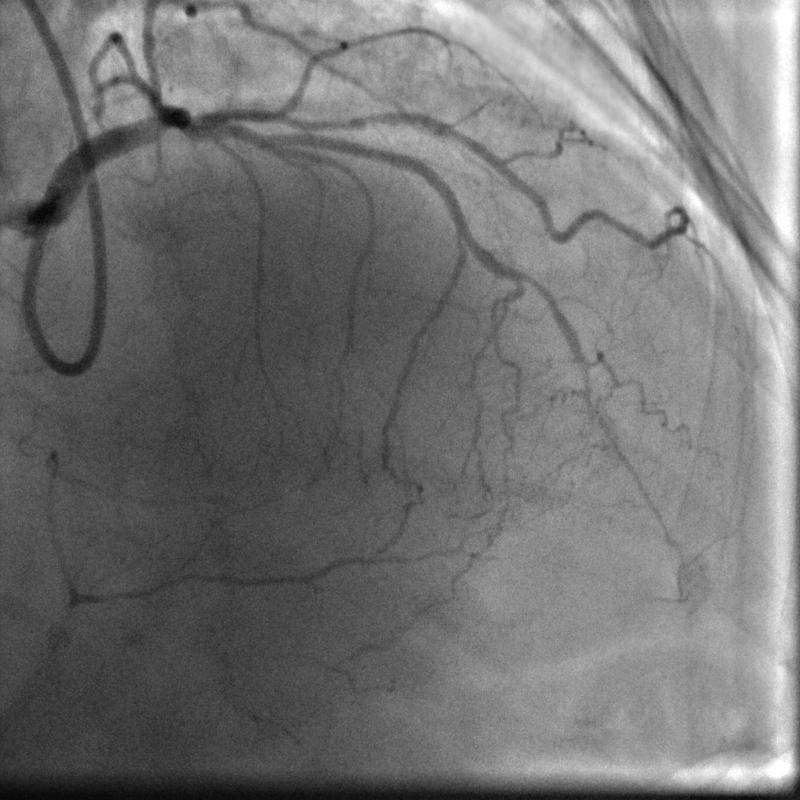Stenosis: (136, 99, 183, 149)
